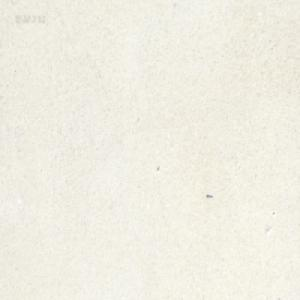Nail: (205, 192, 213, 198)
